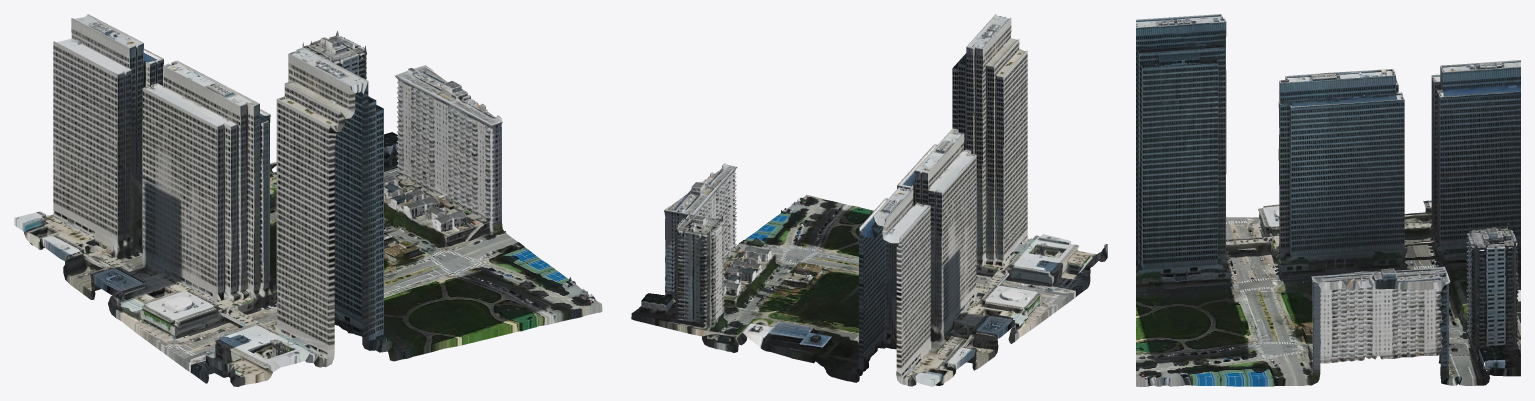
The model's file is z17-20972-50652-h0-yup-uvflip-v3-world.glb.
3 renders of one model, left to right at view 1: azimuth 30°, elevation 25°; view 2: azimuth 150°, elevation 25°; view 3: azimuth 270°, elevation 25°, orthographic. The views are drawn at different scales.
Size of the model in its own units: 242 by 179 by 243.
1 material, 1 textured.
